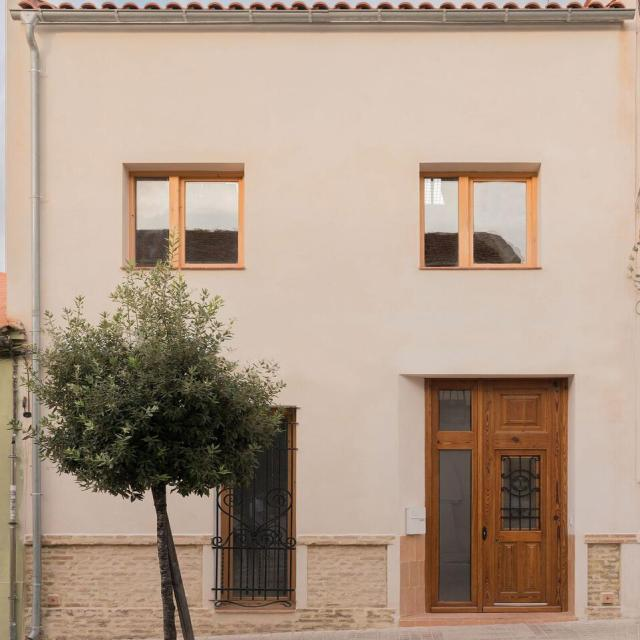door: (424, 376, 570, 614)
plant: (12, 261, 292, 639)
wall: (6, 0, 639, 639)
windows: (220, 407, 303, 608), (421, 172, 542, 267), (130, 174, 246, 266)
